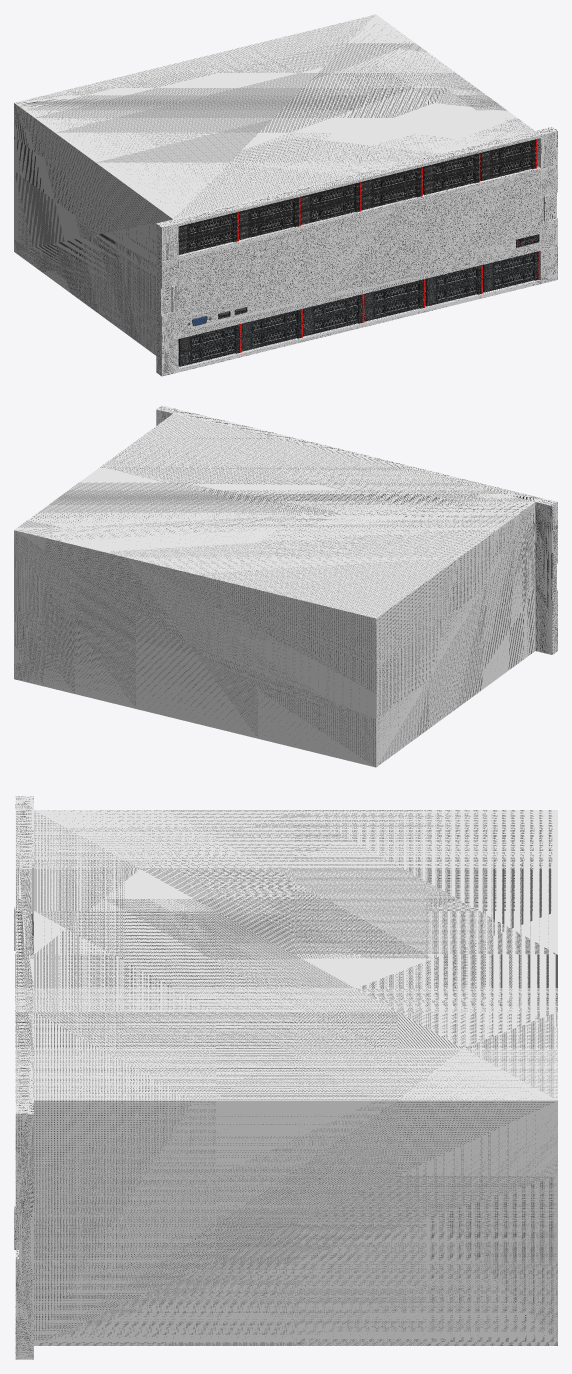
3 renders of one model, top to bottom at view 1: azimuth 30°, elevation 25°; view 2: azimuth 150°, elevation 25°; view 3: azimuth 270°, elevation 25°, orthographic. The views are drawn at different scales.
Visible parts, largest first — view 1: SketchUp (×2), Component_2 (×12), Component_3 (×11); view 2: SketchUp (×2); view 3: SketchUp (×2).
Boxes of the visible parts, bbox=[...] form: SketchUp (×2): bbox=[14, 14, 557, 376]; Component_2 (×12): bbox=[178, 153, 539, 366]; Component_3 (×11): bbox=[178, 139, 536, 351]; SketchUp (×2): bbox=[14, 405, 557, 767]; SketchUp (×2): bbox=[15, 796, 557, 1359].
Bounding box in the file's own units: 523 × 378 × 188.
Materials: 28 (8 with a texture image).
